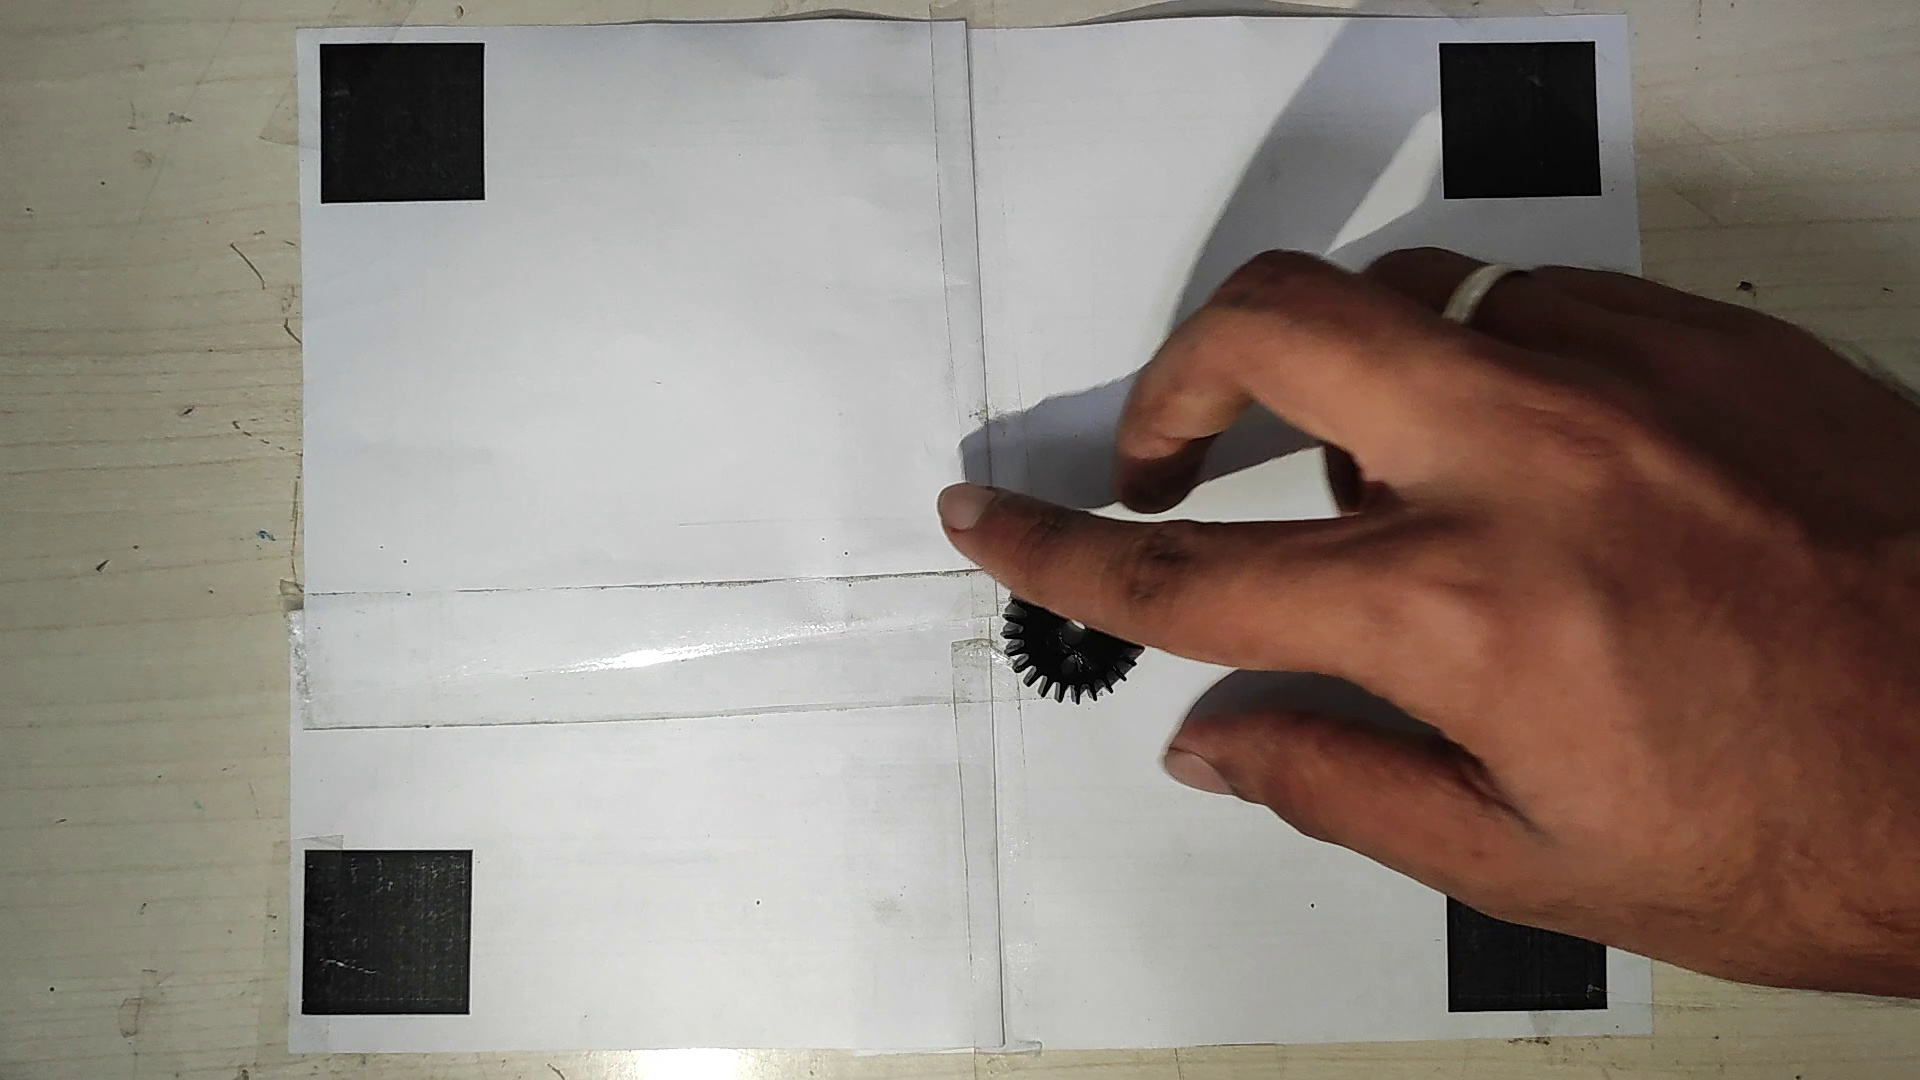Gear: (1005, 563, 1153, 707)
